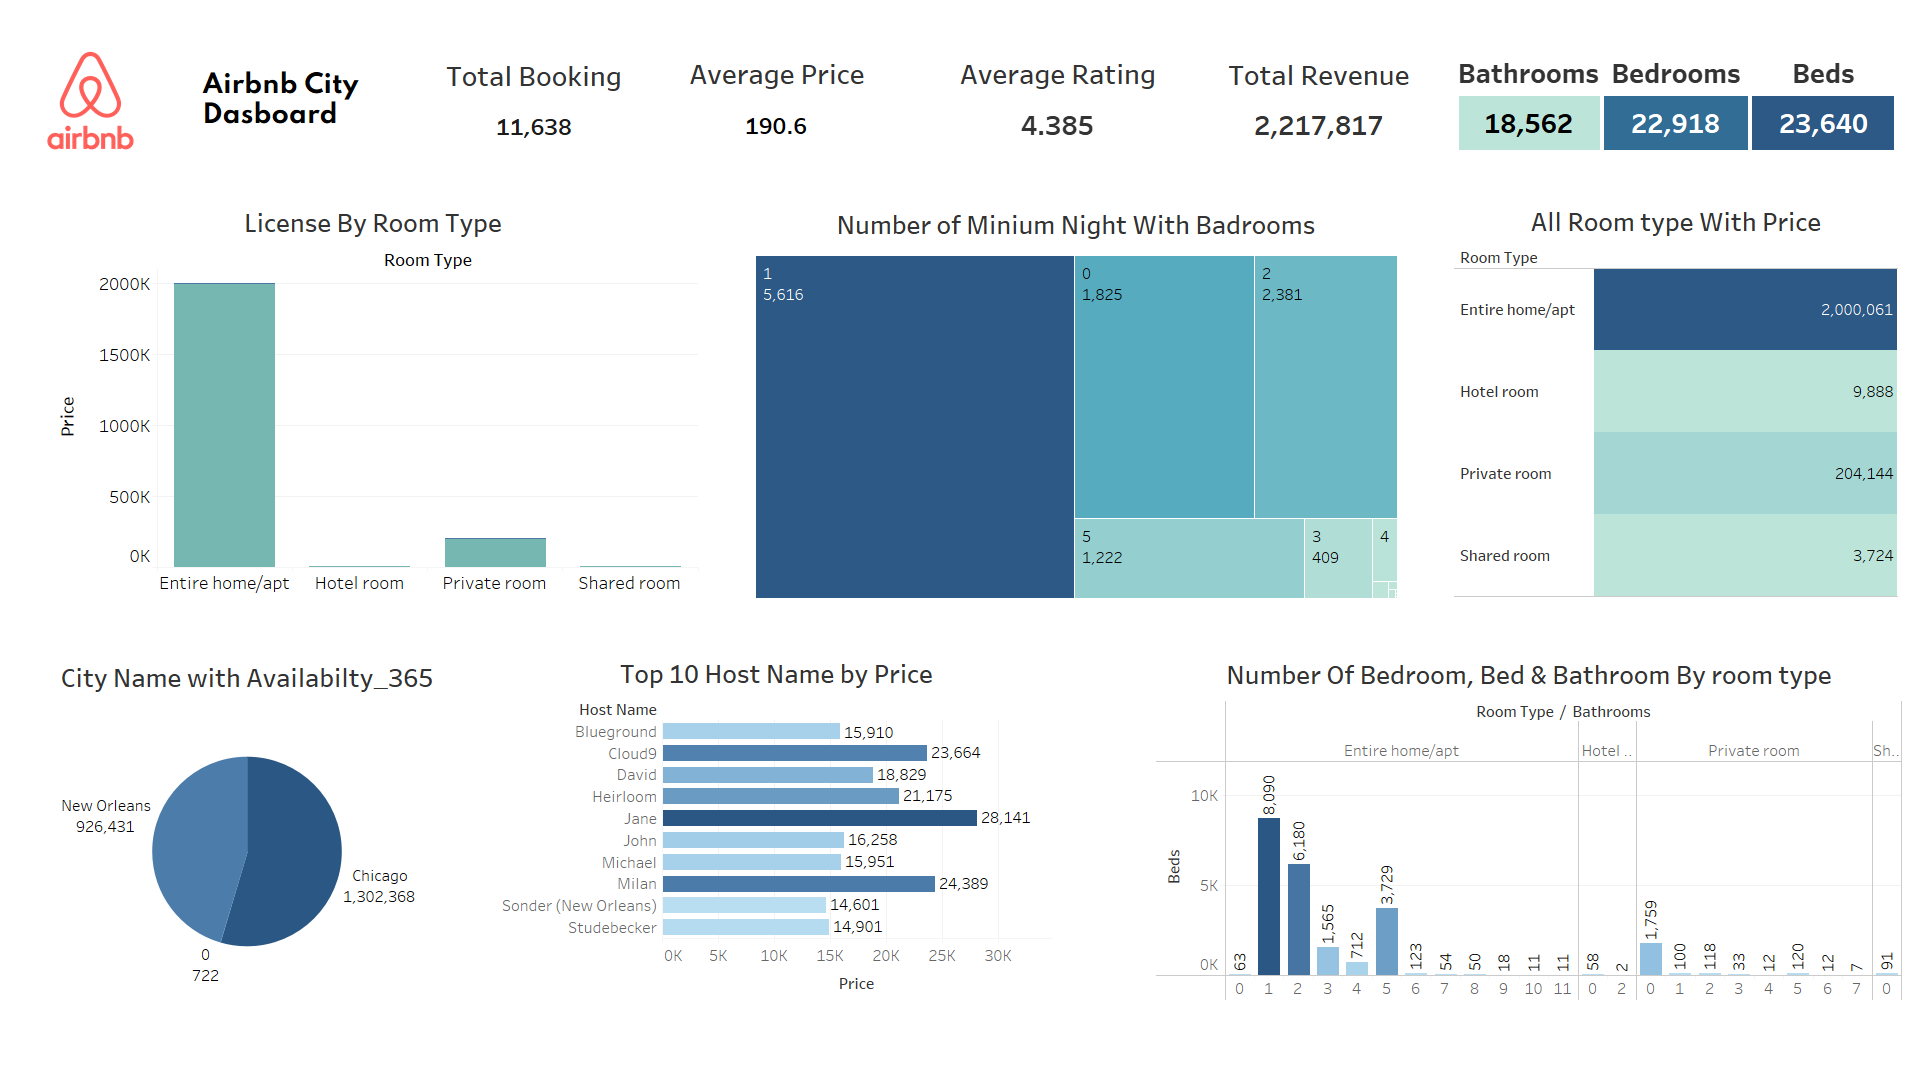

Layout of this report page (visuals, bound fields, positions):
{"tool":"tableau","page":{"name":"Dashboard 1","canvas":[1920,1080],"ordinal":0},"visuals":[{"type":"worksheet","title":"Total bed/bedroom/bathroom","mark":"Square","box":[1453,50,446,105]},{"type":"image","param":"C:/Users/ASUS/Downloads/Airbnb-Logo.png","box":[49,51,203,99]},{"type":"worksheet","title":"Total Booking","mark":"Automatic","box":[600,51,198,99]},{"type":"worksheet","title":"Average Rating","mark":"Automatic","box":[1000,51,248,100]},{"type":"worksheet","title":"Total Revenue ","mark":"Automatic","box":[1253,51,194,98]},{"type":"worksheet","title":"Average Price","mark":"Automatic","box":[798,53,204,100]},{"type":"text","box":[238,81,310,35]},{"type":"worksheet","title":"Room type / Price","mark":"Square","rows":["room_type"],"box":[1454,198,444,399]},{"type":"worksheet","title":"License Satuts / Room type","mark":"Automatic","rows":["price"],"cols":["room_type"],"box":[48,199,650,403]},{"type":"worksheet","title":"Number of rating /year","mark":"Automatic","box":[751,201,650,402]},{"type":"worksheet","title":"Top 10 Host Name","mark":"Automatic","rows":["host_name"],"cols":["price"],"box":[502,650,549,351]},{"type":"worksheet","title":"Bedroom","mark":"Automatic","rows":["Beds"],"cols":["room_type","Bathrooms"],"box":[1156,651,746,350]},{"type":"worksheet","title":"Name /Availbilty","mark":"Pie","box":[46,654,402,345]}]}

Visuals, with their boxes in screenshot pixels (x1, y1, x2, y2), scaled from the page's 1920x1080 canvas onto the 1920x1080 screenshot:
"Total bed/bedroom/bathroom" worksheet (Square marks): BBox(1453, 50, 1899, 155)
image: BBox(49, 51, 252, 150)
"Total Booking" worksheet: BBox(600, 51, 798, 150)
"Average Rating" worksheet: BBox(1000, 51, 1248, 151)
"Total Revenue " worksheet: BBox(1253, 51, 1447, 149)
"Average Price" worksheet: BBox(798, 53, 1002, 153)
text: BBox(238, 81, 548, 116)
"Room type / Price" worksheet (Square marks): BBox(1454, 198, 1898, 597)
"License Satuts / Room type" worksheet: BBox(48, 199, 698, 602)
"Number of rating /year" worksheet: BBox(751, 201, 1401, 603)
"Top 10 Host Name" worksheet: BBox(502, 650, 1051, 1001)
"Bedroom" worksheet: BBox(1156, 651, 1902, 1001)
"Name /Availbilty" worksheet (Pie marks): BBox(46, 654, 448, 999)
